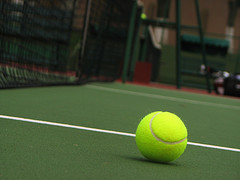tennis ball: (133, 110, 189, 165)
